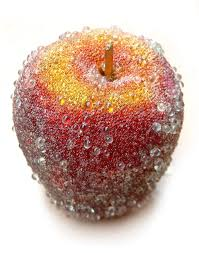apple: (10, 28, 186, 224)
